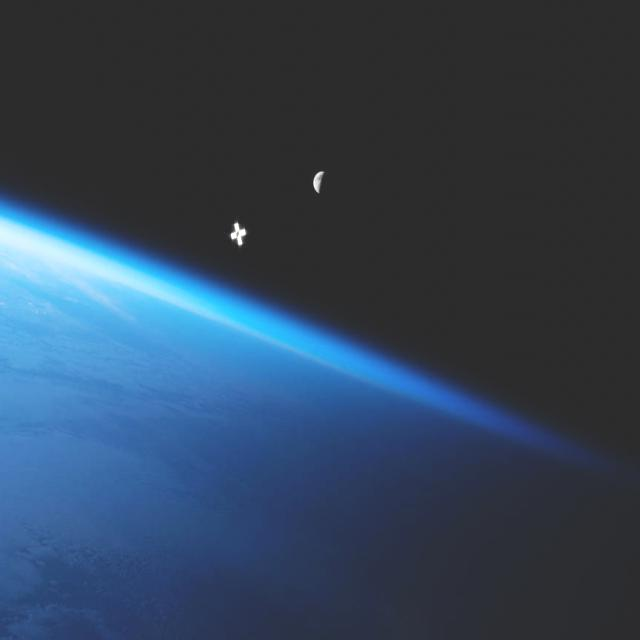satellite: (210, 216, 259, 251)
